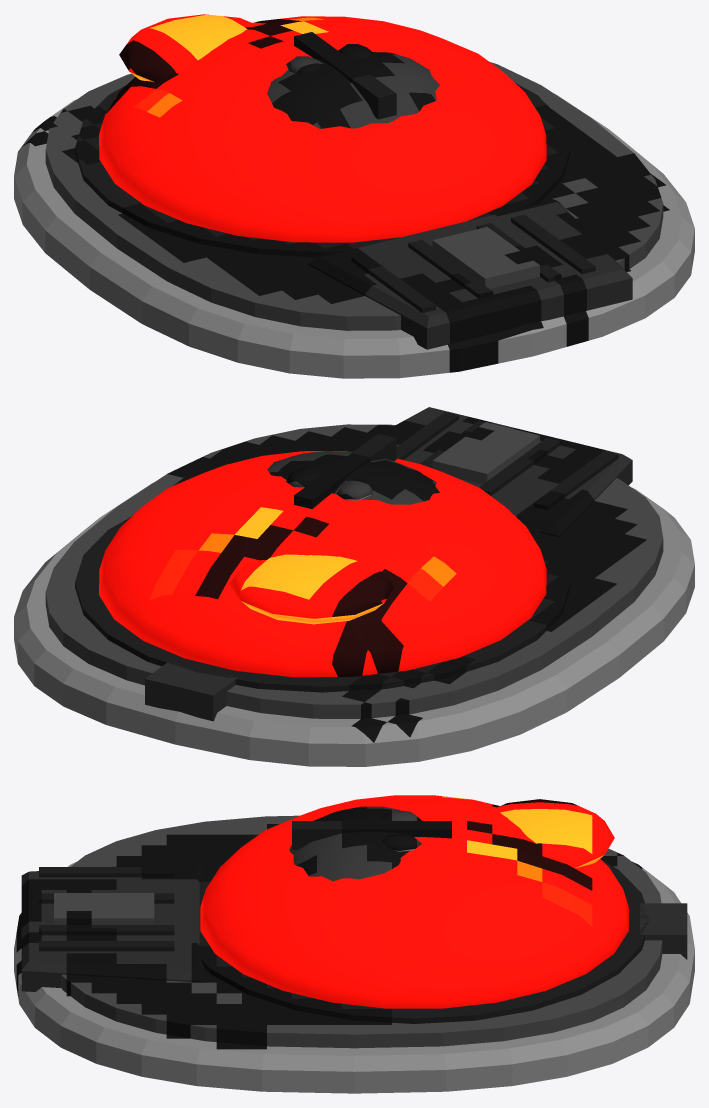
The model's file is newshs-269-d.glb.
The picture shows the model from 3 angles, top to bottom: view 1: azimuth 30°, elevation 25°; view 2: azimuth 150°, elevation 25°; view 3: azimuth 270°, elevation 25°; orthographic projection. The views are drawn at different scales.
Visible parts, largest first — view 1: newshs-269-d; view 2: newshs-269-d; view 3: newshs-269-d.
Boxes of the visible parts, x1,y1,x2,y2 form: newshs-269-d: (14,14,694,378); newshs-269-d: (14,407,694,766); newshs-269-d: (14,795,694,1093).
Size of the model in its own units: 1.93 by 0.535 by 2.27.
